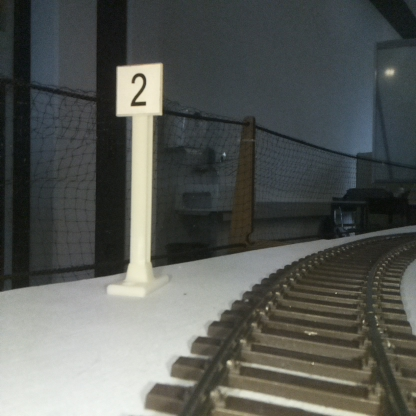white-info-2: (116, 62, 161, 293)
